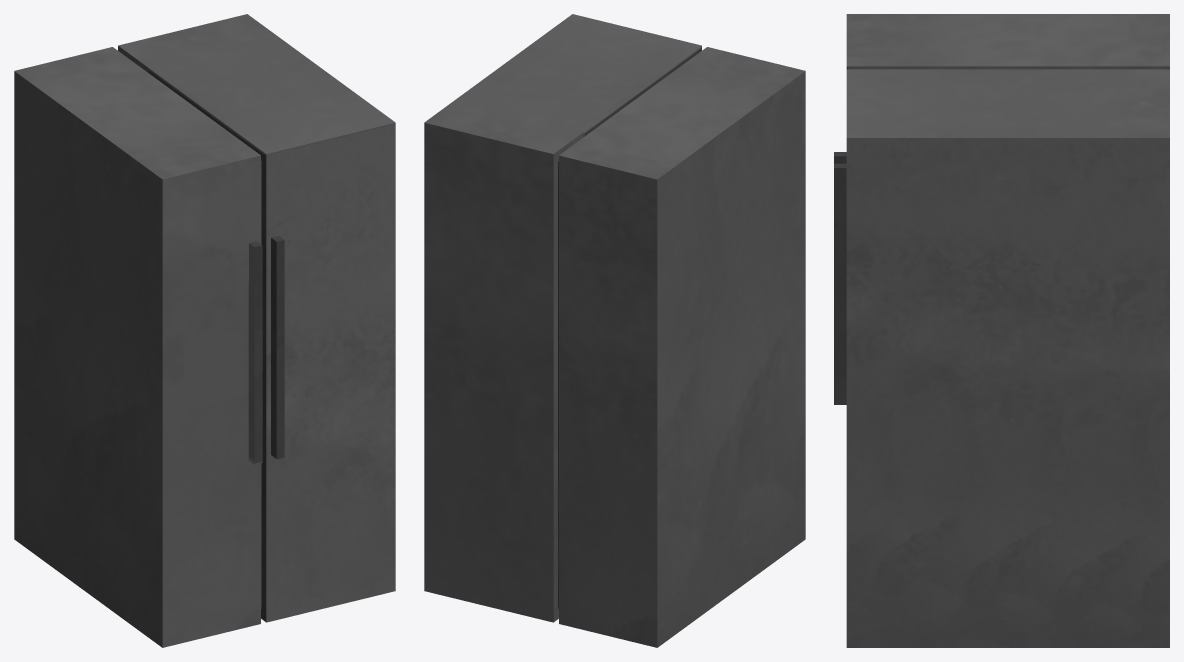
File: Fridge.fbx
The picture shows the model from 3 angles, left to right: view 1: azimuth 30°, elevation 25°; view 2: azimuth 150°, elevation 25°; view 3: azimuth 270°, elevation 25°; orthographic projection. The views are drawn at different scales.
Visible parts, largest first — view 1: Cube.001; view 2: Cube.001; view 3: Cube.001.
Boxes of the visible parts, <box> form: Cube.001: <box>14,14,395,647</box>; Cube.001: <box>424,14,805,647</box>; Cube.001: <box>834,14,1169,647</box>.
Size of the model in its own units: 263 by 505 by 301.
